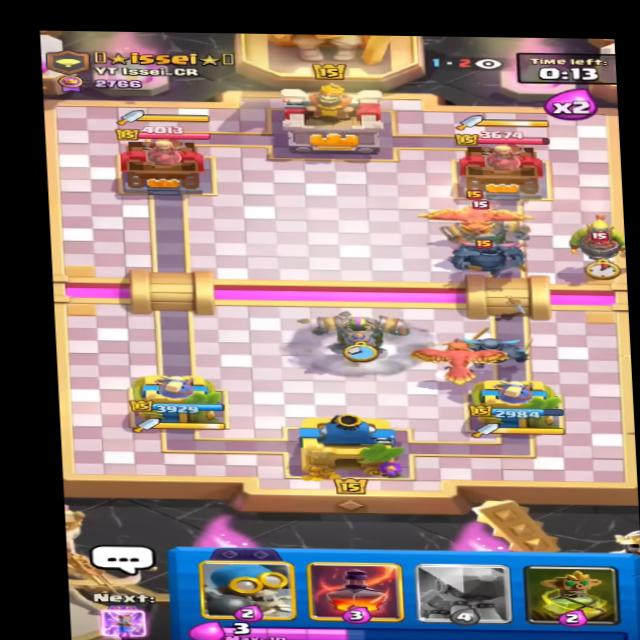Goblindemolisher: (558, 214, 636, 266)
Goblinmachine: (432, 209, 537, 254)
Pekka: (447, 230, 530, 275)
Pheonix: (422, 185, 525, 234)
